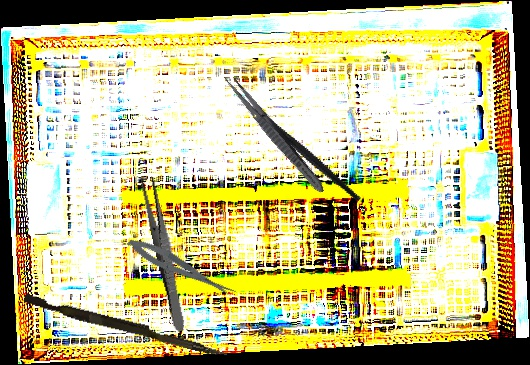Chopper: (235, 72, 363, 231)
Dressing Forceps: (220, 71, 329, 197), (138, 174, 191, 333)
Micro Scissor: (124, 232, 238, 305)
Pusher: (22, 293, 230, 359)
